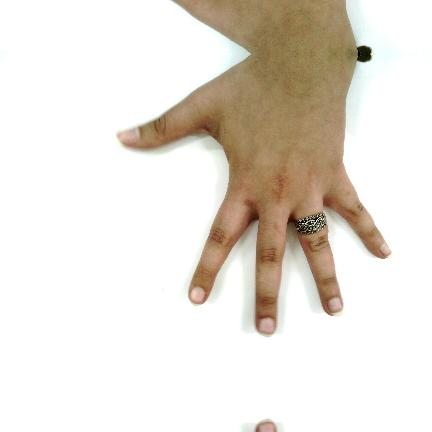Nail: (117, 127, 140, 145), (258, 318, 276, 337), (189, 287, 206, 306), (329, 297, 343, 317), (258, 419, 276, 432), (380, 239, 392, 258)
